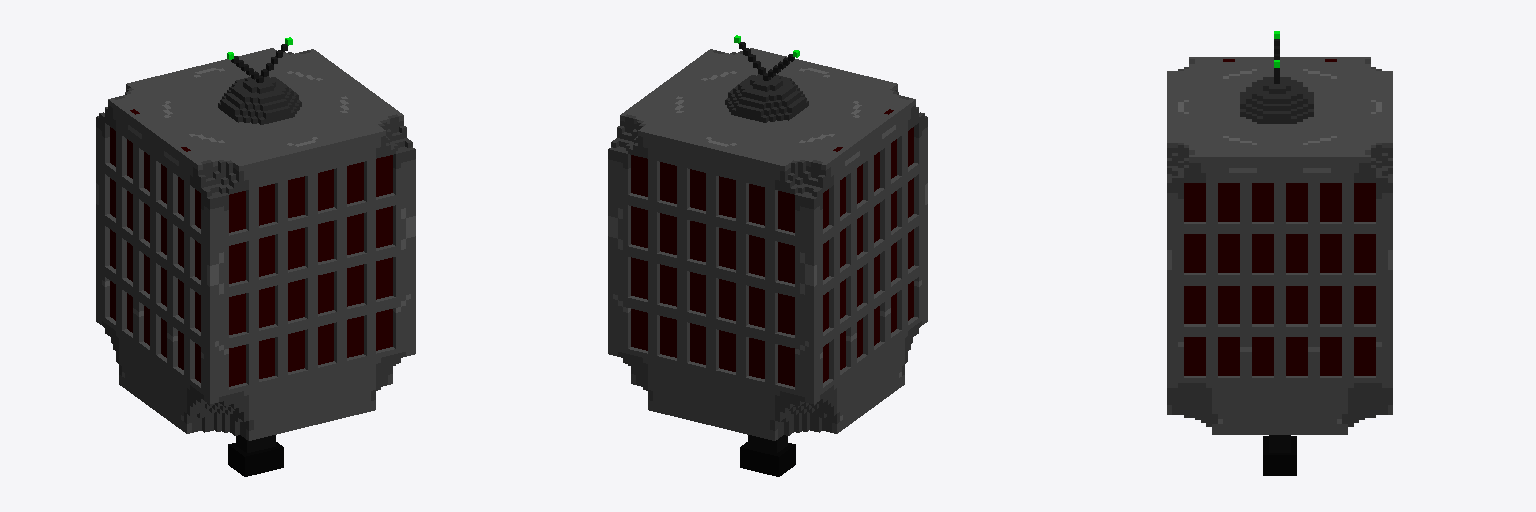
3 renders of one model, left to right at view 1: azimuth 30°, elevation 25°; view 2: azimuth 150°, elevation 25°; view 3: azimuth 270°, elevation 25°, orthographic.
Visible parts, largest first — view 1: object 1; view 2: object 1; view 3: object 1.
Part boxes in pixels (x1,y1,x2,y2): object 1: (96, 37, 415, 476); object 1: (608, 35, 927, 476); object 1: (1167, 31, 1392, 475).
Bounding box in the file's own units: 4.2 × 8.2 × 4.
Materials: 1 (1 with a texture image).